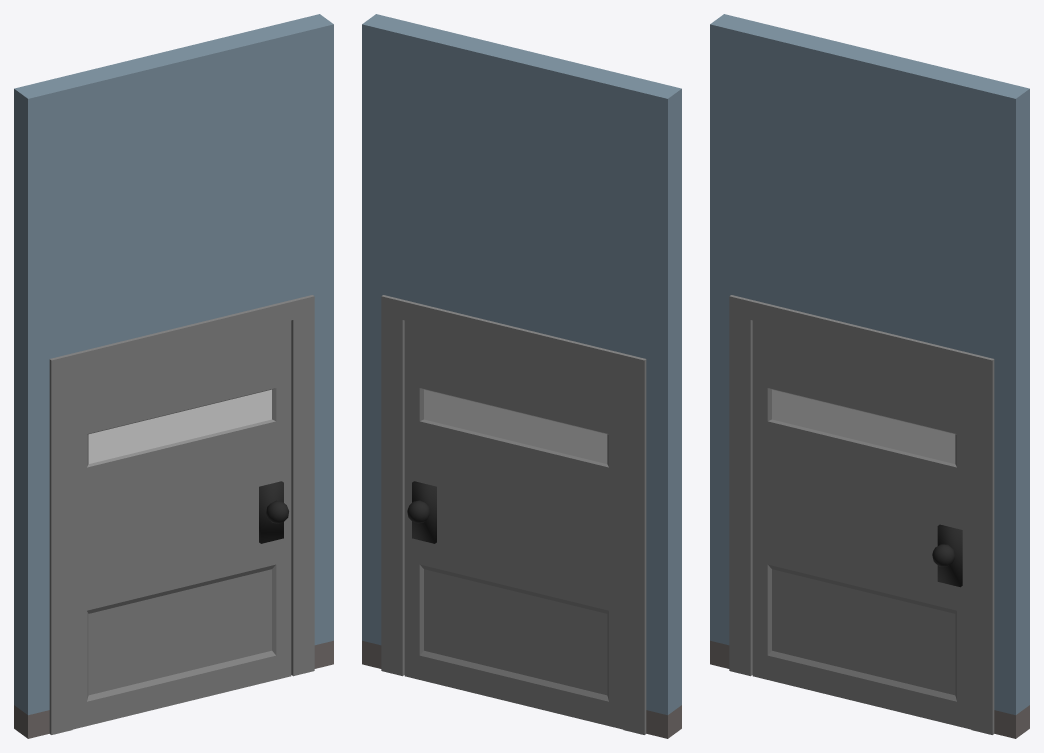
File: wallOfficeDoor.fbx
3 renders of one model, left to right at view 1: azimuth 30°, elevation 25°; view 2: azimuth 150°, elevation 25°; view 3: azimuth 330°, elevation 25°, orthographic.
Parts seen in each view (by area): view 1: Wall - OfficeDoor; view 2: Wall - OfficeDoor; view 3: Wall - OfficeDoor.
Part boxes in pixels (bbox=[...]): Wall - OfficeDoor: bbox=[14, 14, 333, 738]; Wall - OfficeDoor: bbox=[362, 14, 681, 738]; Wall - OfficeDoor: bbox=[710, 14, 1029, 738].
Size of the model in its own units: 200 by 46.83 by 401.
